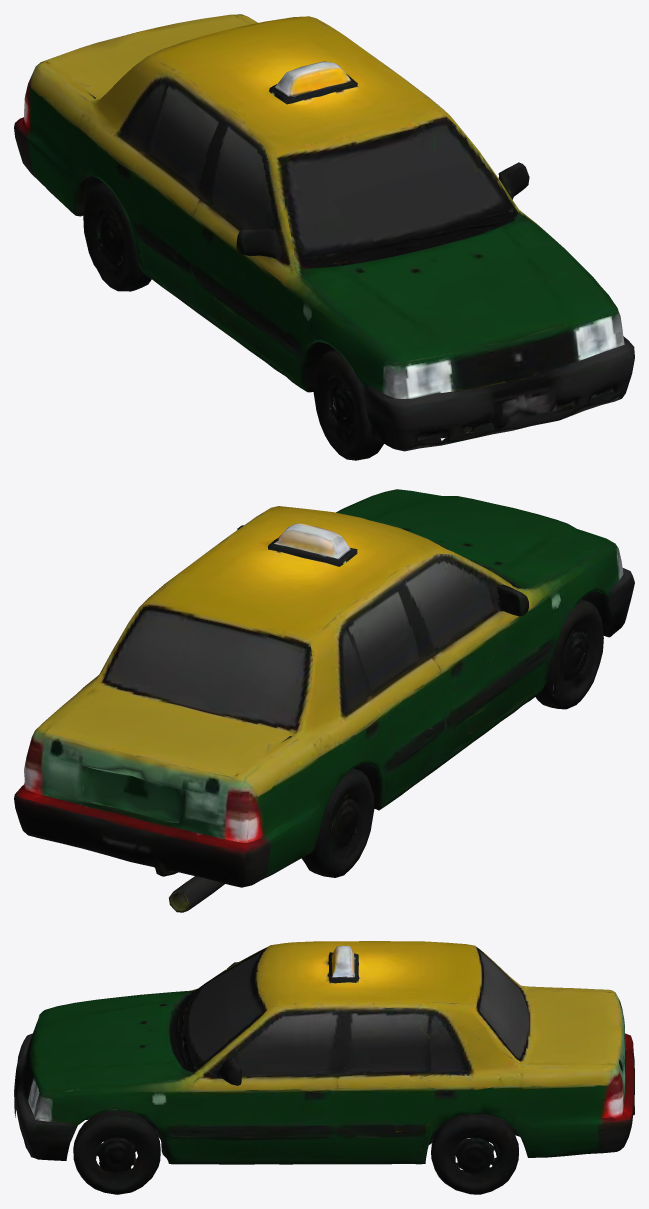
Rendered from city_taxi.0.glb.
The picture shows the model from 3 angles, top to bottom: view 1: azimuth 30°, elevation 25°; view 2: azimuth 150°, elevation 25°; view 3: azimuth 270°, elevation 25°; orthographic projection. The views are drawn at different scales.
Parts seen in each view (by area): view 1: geometry_0; view 2: geometry_0; view 3: geometry_0.
Part boxes in pixels (x1,y1,x2,y2): geometry_0: [14, 14, 634, 460]; geometry_0: [14, 489, 634, 912]; geometry_0: [14, 941, 634, 1194].
Bounding box in the file's own units: 0.4171 × 0.3529 × 1.
Materials: 1 (1 with a texture image).
